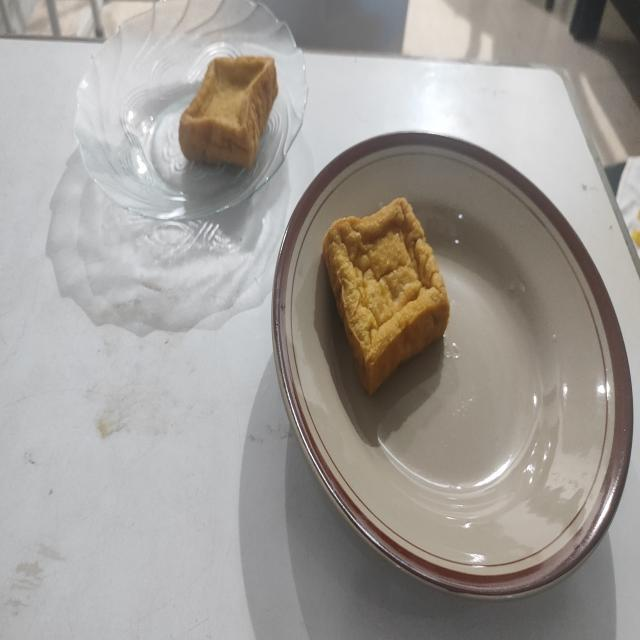tahu_goreng: (322, 198, 450, 394), (179, 56, 278, 170)
